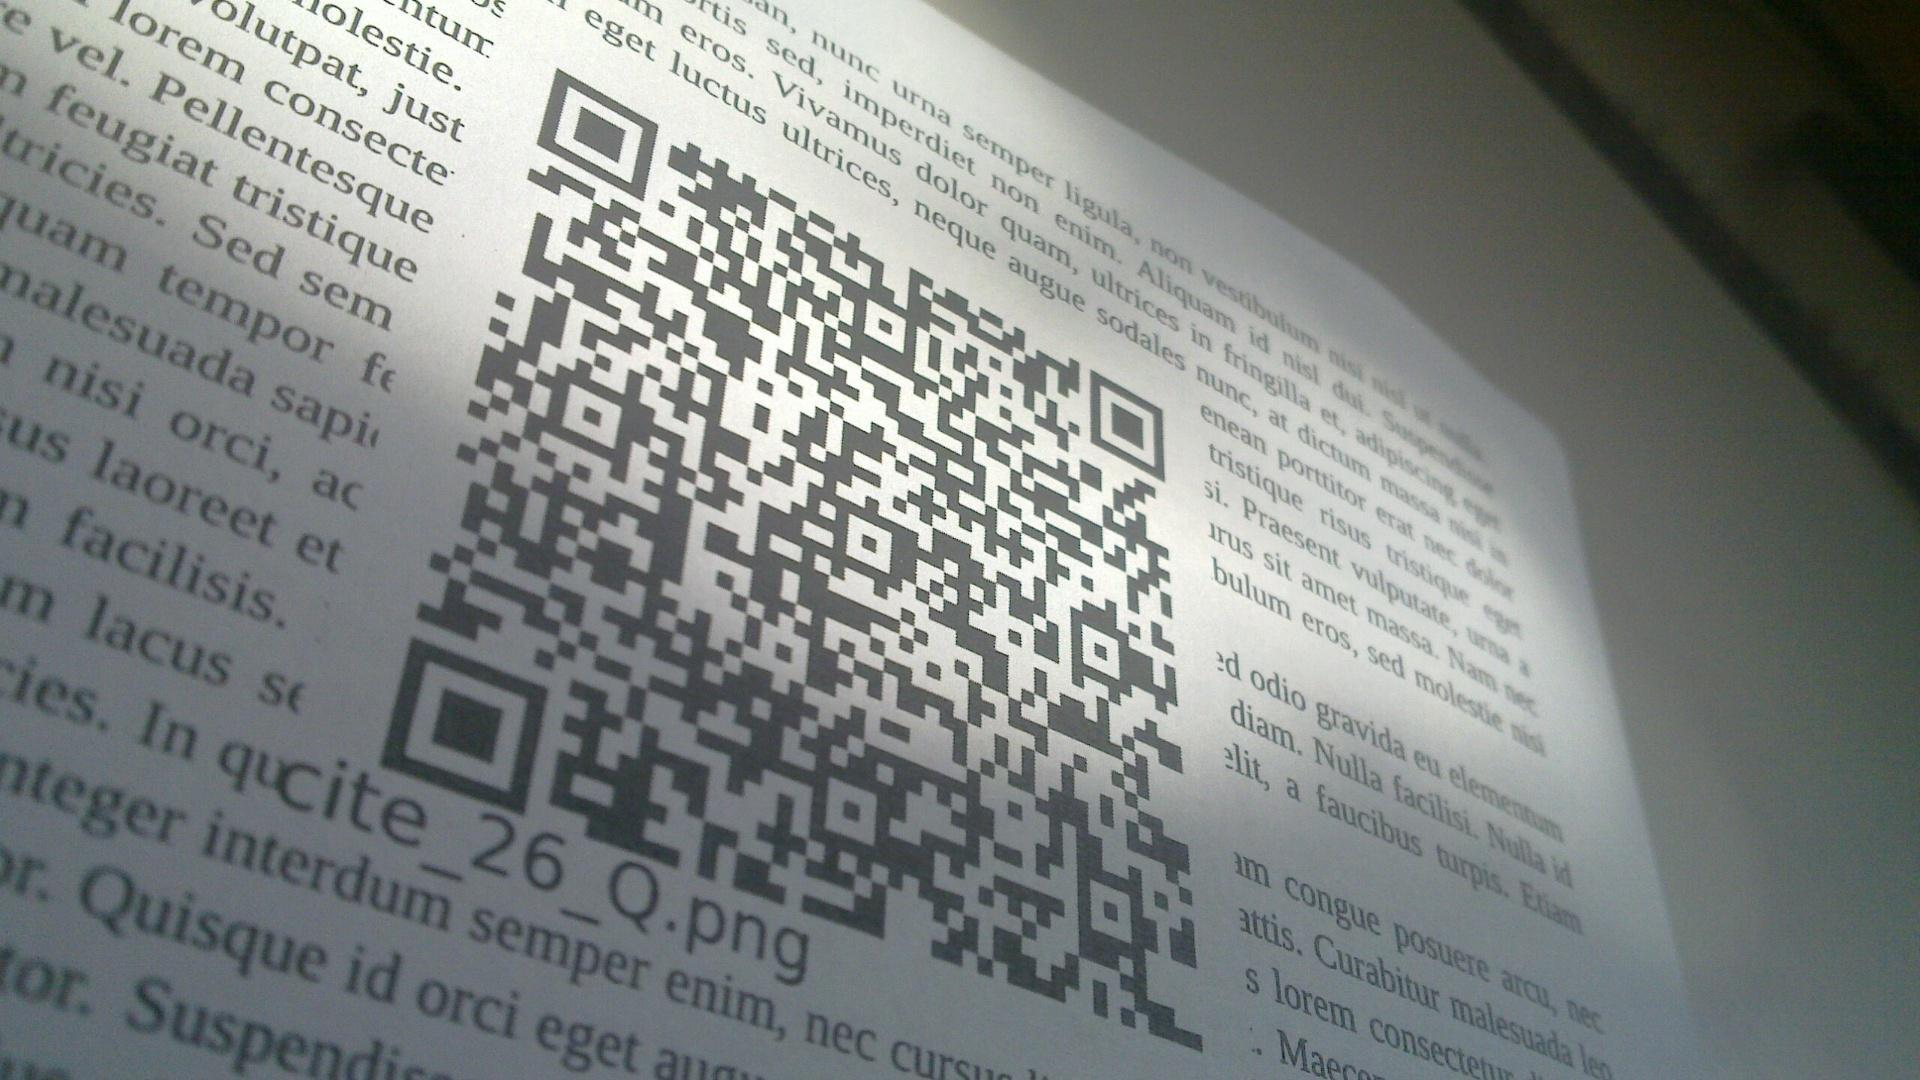Finder pattern: (385, 629, 547, 811), (533, 61, 669, 199), (1085, 364, 1172, 488)
